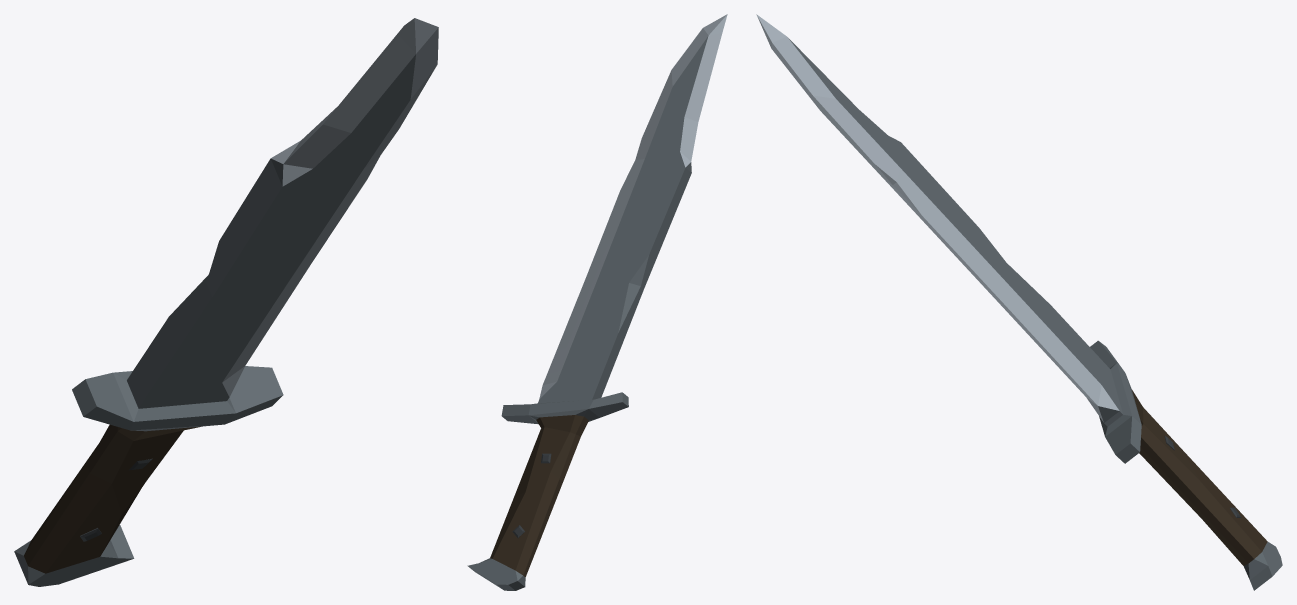
The model's file is fk-knife-01.glb.
The picture shows the model from 3 angles, left to right: view 1: azimuth 30°, elevation 25°; view 2: azimuth 150°, elevation 25°; view 3: azimuth 270°, elevation 25°; orthographic projection. The views are drawn at different scales.
Parts seen in each view (by area): view 1: fk-knife-01; view 2: fk-knife-01; view 3: fk-knife-01.
Boxes of the visible parts, x1,y1,x2,y2 form: fk-knife-01: [14, 18, 438, 586]; fk-knife-01: [467, 14, 727, 590]; fk-knife-01: [756, 14, 1282, 590].
Size of the model in its own units: 0.1671 by 0.6324 by 0.5469.
1 material, 1 textured.
